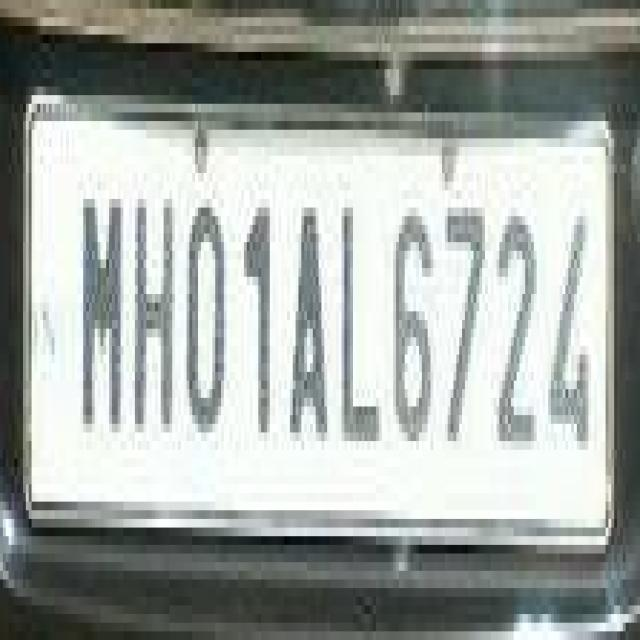license_plate: (9, 86, 608, 545)
